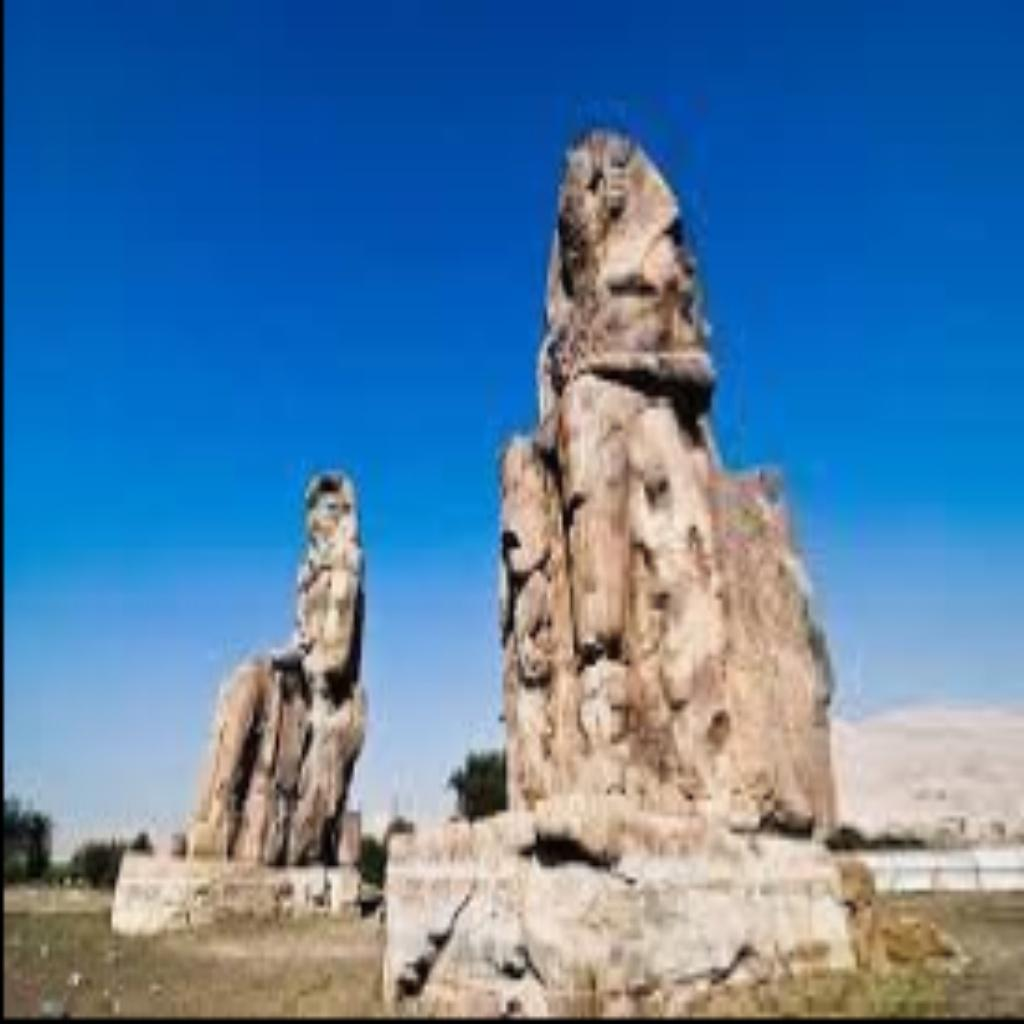Colossoi of Memnon: (492, 112, 849, 845), (175, 464, 372, 868)
